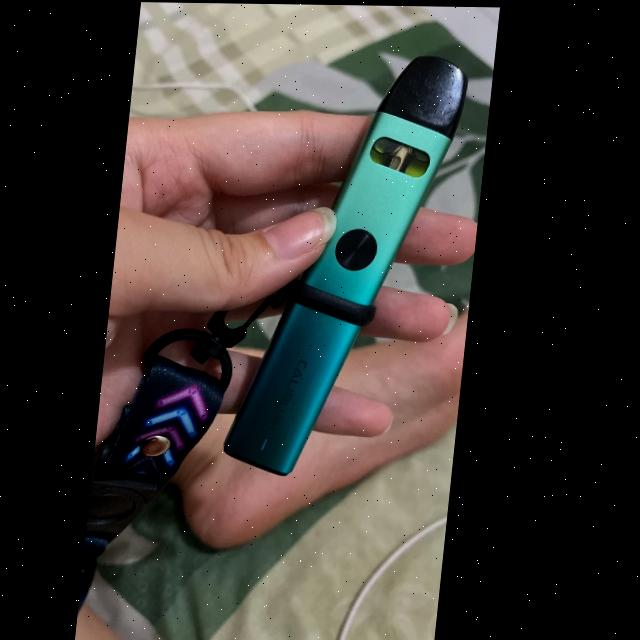vape: (228, 50, 474, 477)
